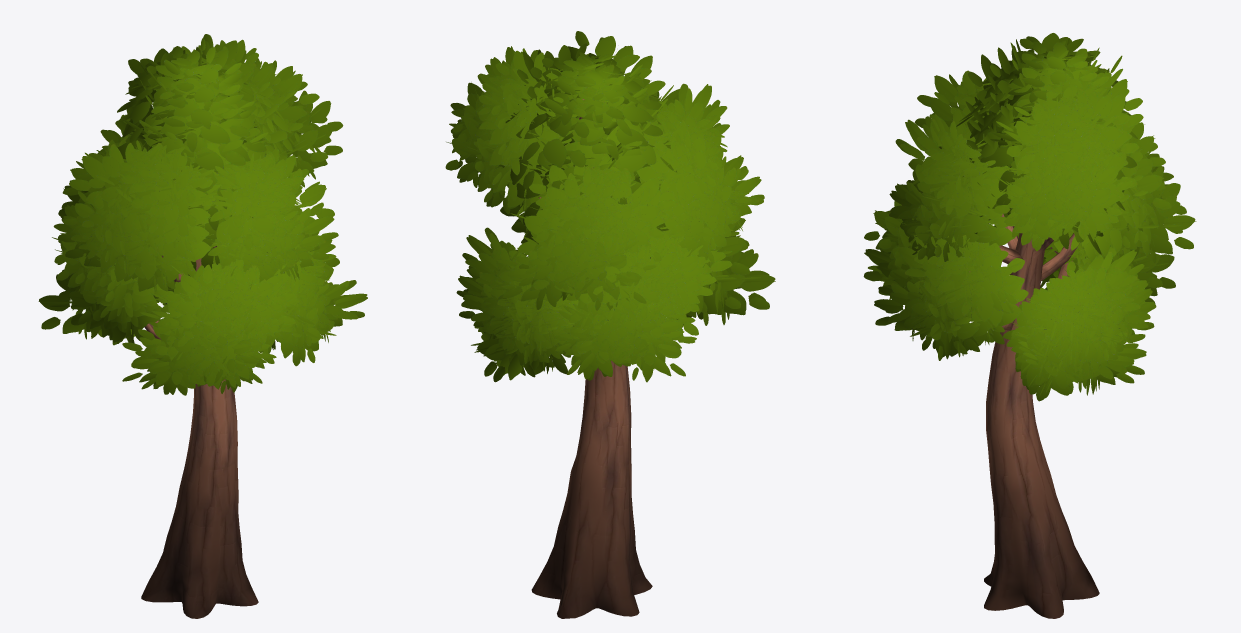
File: oak_1.glb
3 renders of one model, left to right at view 1: azimuth 30°, elevation 25°; view 2: azimuth 150°, elevation 25°; view 3: azimuth 270°, elevation 25°, orthographic. The views are drawn at different scales.
Parts seen in each view (by area): view 1: CommonTree_1; view 2: CommonTree_1; view 3: CommonTree_1.
Part boxes in pixels (x1,y1,x2,y2): CommonTree_1: (38,34,367,618); CommonTree_1: (445,31,775,618); CommonTree_1: (863,33,1196,618).
Size of the model in its own units: 4.31 by 7.26 by 4.58.
Materials: 2 (2 with a texture image).
